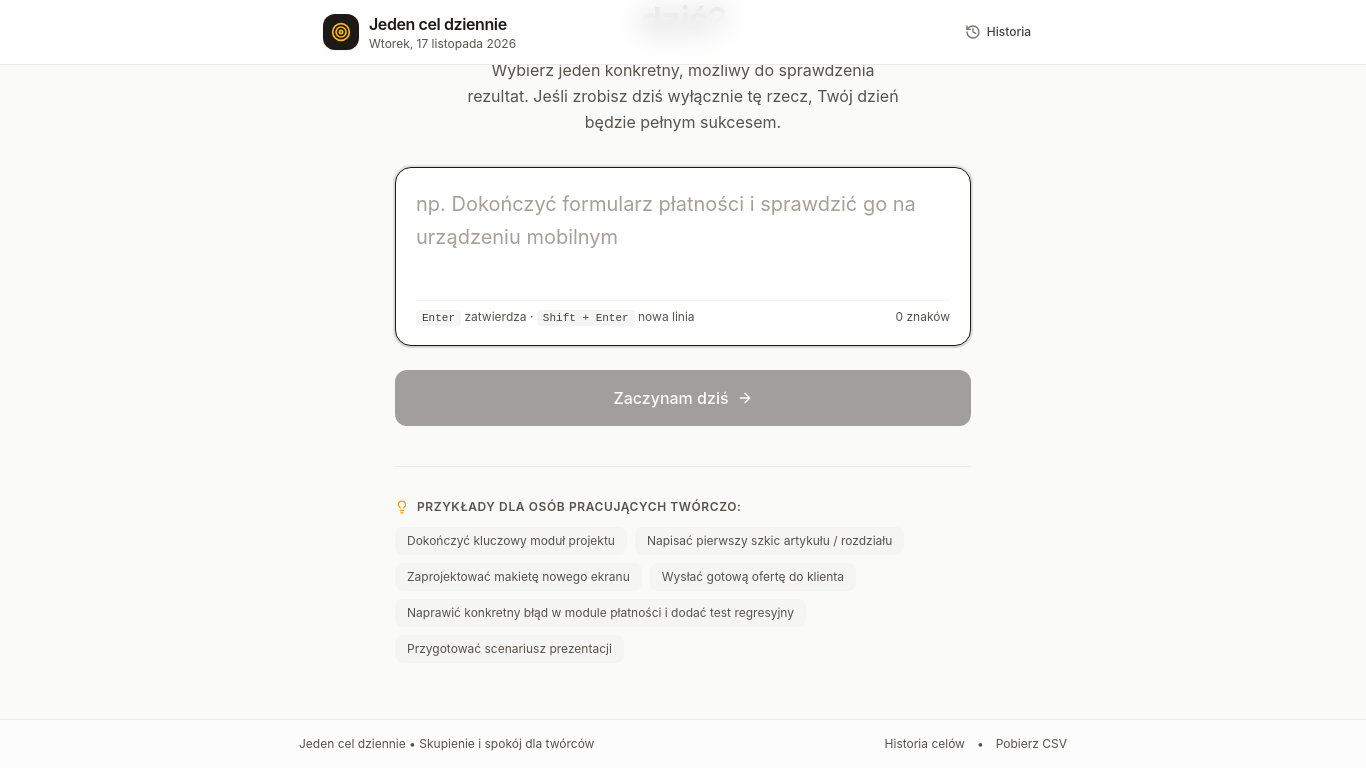
Test case: przepływ: cel → postęp → refleksja → historia → CSV › szybki eksport bez danych otwiera historię
The width and height of the screenshot is (1366, 768).
(page scrolled)
Click the button "Pobierz CSV" at [1031, 744], box left=996, top=736, right=1067, bottom=752
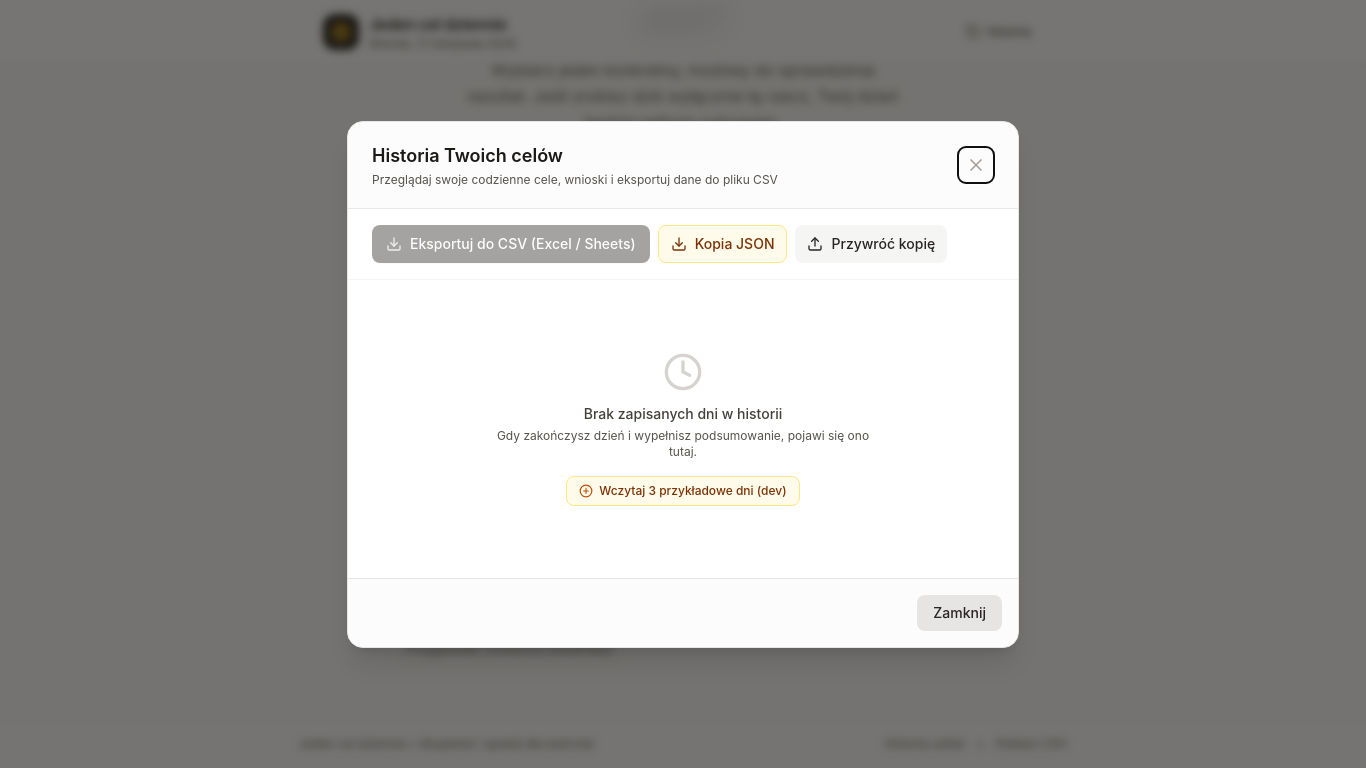
Expected: the dialog "Historia Twoich celów" is shown, left=347, top=120, right=1019, bottom=648
